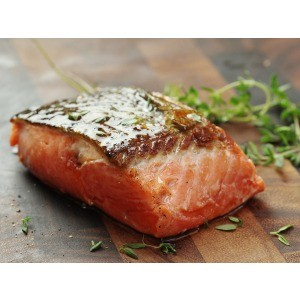salmon_brain food: (52, 102, 196, 212)
